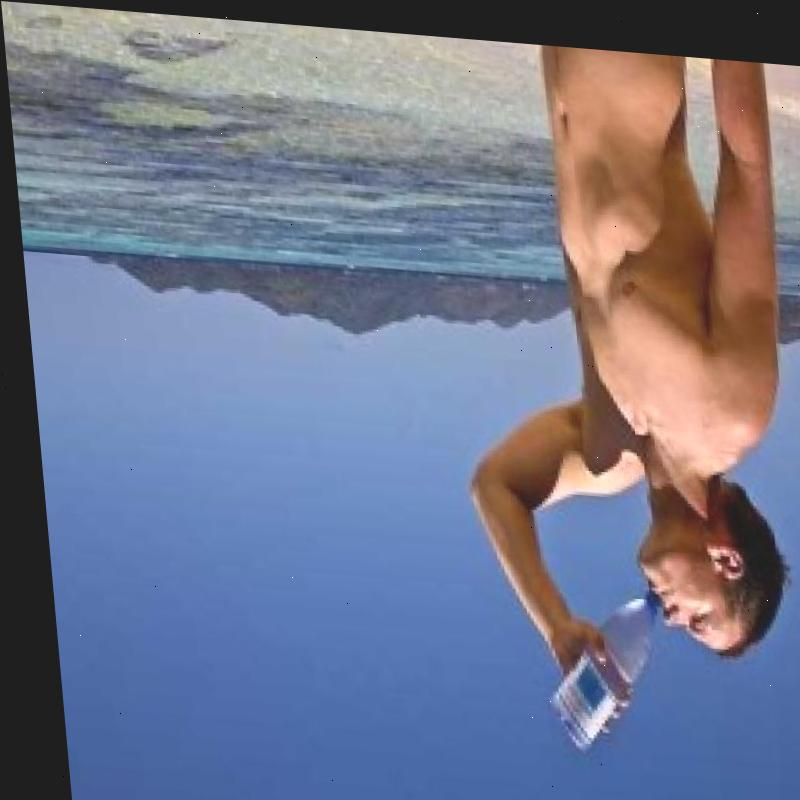botella: (529, 567, 660, 744)
